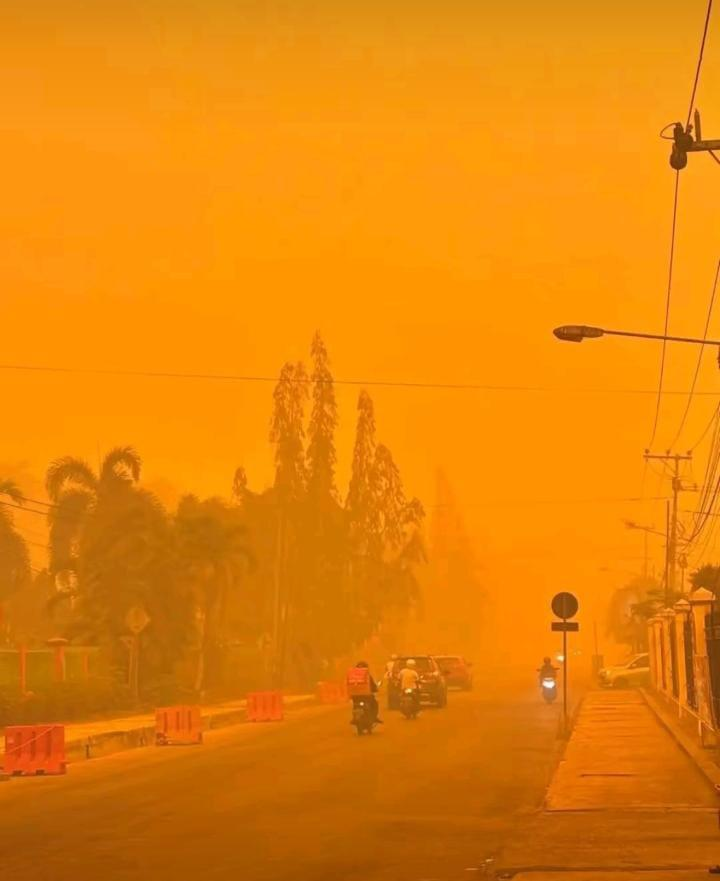Deteksi-Objek-Citra-Berasap: (0, 0, 720, 881)
Kendaraan: (385, 652, 446, 709), (598, 653, 652, 689), (432, 654, 474, 694), (349, 692, 382, 736), (397, 684, 422, 720), (540, 672, 558, 705)
Manusia: (345, 659, 381, 728), (397, 658, 422, 706), (537, 657, 559, 695)
Vegetasi: (231, 330, 427, 698), (0, 443, 245, 708)
